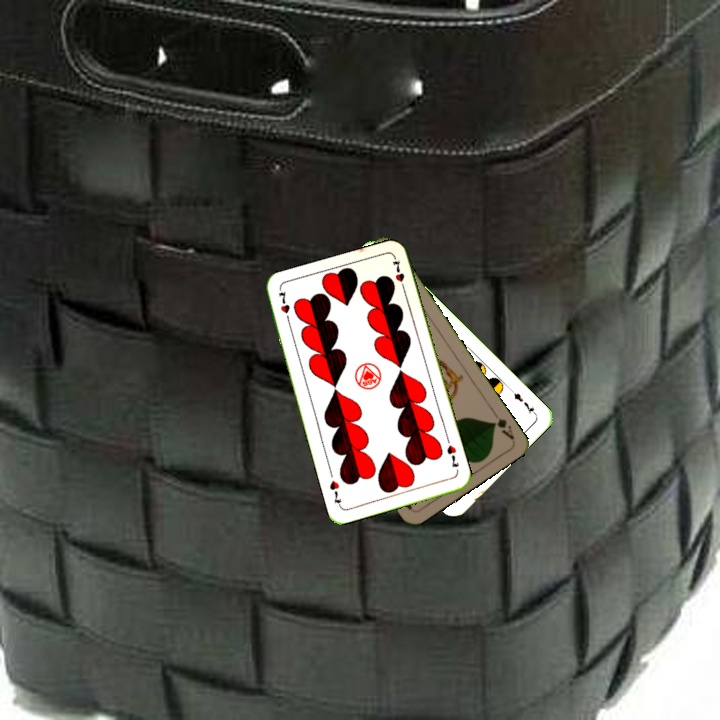E7: (507, 385, 539, 418)
GA: (487, 406, 517, 442)
H7: (274, 286, 293, 326), (443, 441, 462, 470)
